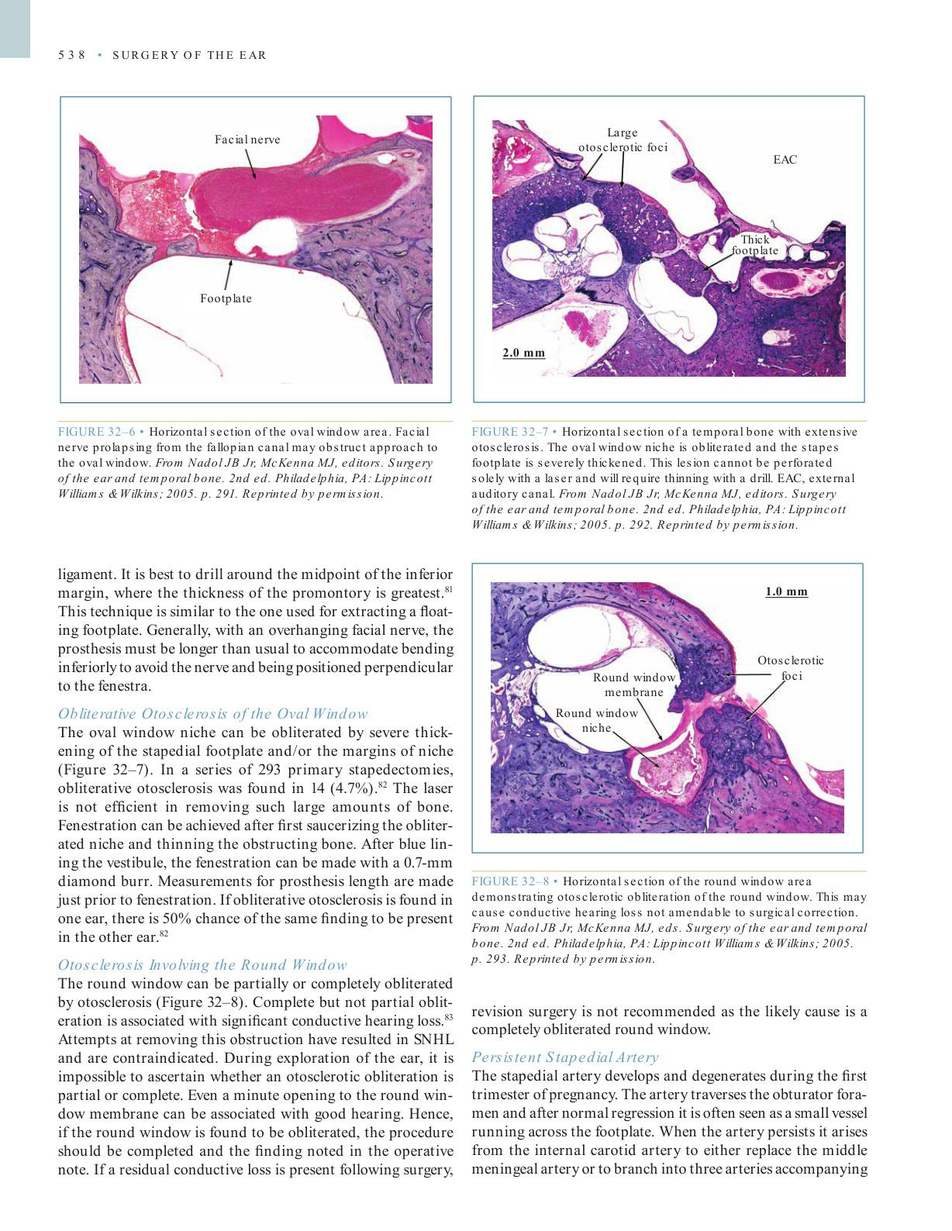caption: (470, 425, 859, 534), (468, 873, 870, 968), (56, 425, 439, 502)
header: (111, 48, 268, 62)
image: (65, 101, 446, 398), (480, 101, 859, 398), (478, 568, 857, 848)
sub-section-heading: (57, 957, 351, 975), (57, 706, 369, 722), (470, 1050, 660, 1067)
text: (56, 723, 455, 946), (56, 976, 455, 1180), (55, 566, 455, 692), (471, 1068, 870, 1179), (471, 1004, 868, 1040)
